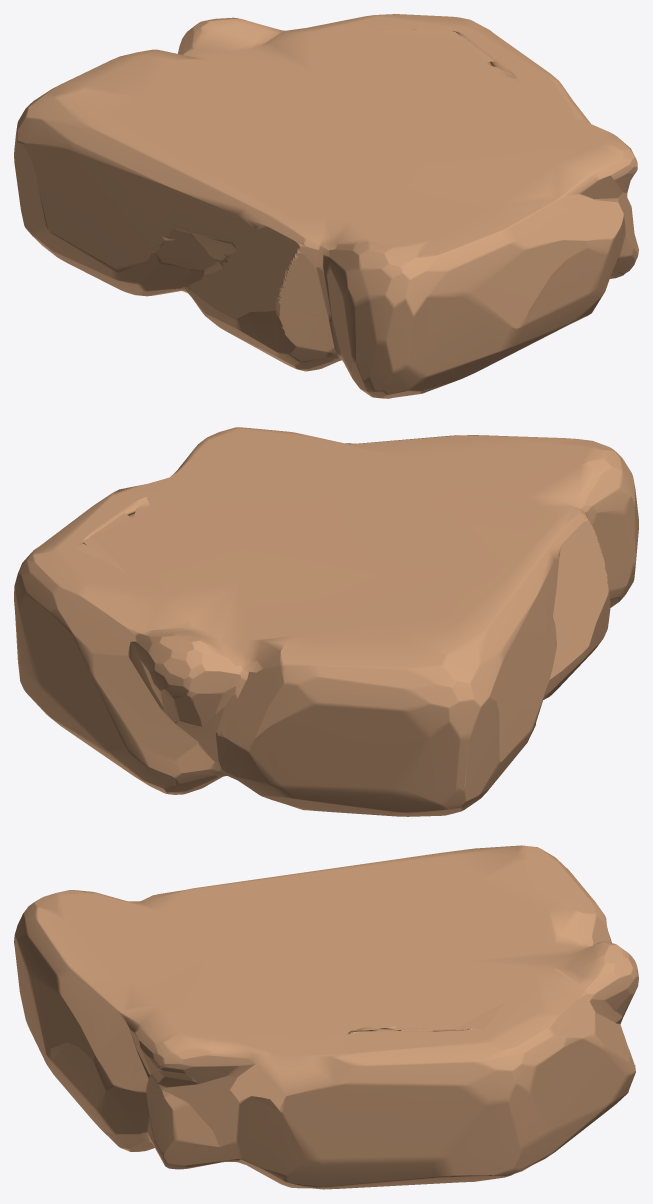
The picture shows the model from 3 angles, top to bottom: view 1: azimuth 30°, elevation 25°; view 2: azimuth 150°, elevation 25°; view 3: azimuth 270°, elevation 25°; orthographic projection. The views are drawn at different scales.
Visible parts, largest first — view 1: Mesh_121_LOD0; view 2: Mesh_121_LOD0; view 3: Mesh_121_LOD0.
Part boxes in pixels (<box>): Mesh_121_LOD0: <box>14,14,638,398</box>; Mesh_121_LOD0: <box>14,427,638,816</box>; Mesh_121_LOD0: <box>14,845,638,1189</box>.
Size of what is drawn, in the model's own units: 1265 by 432 by 1518.
